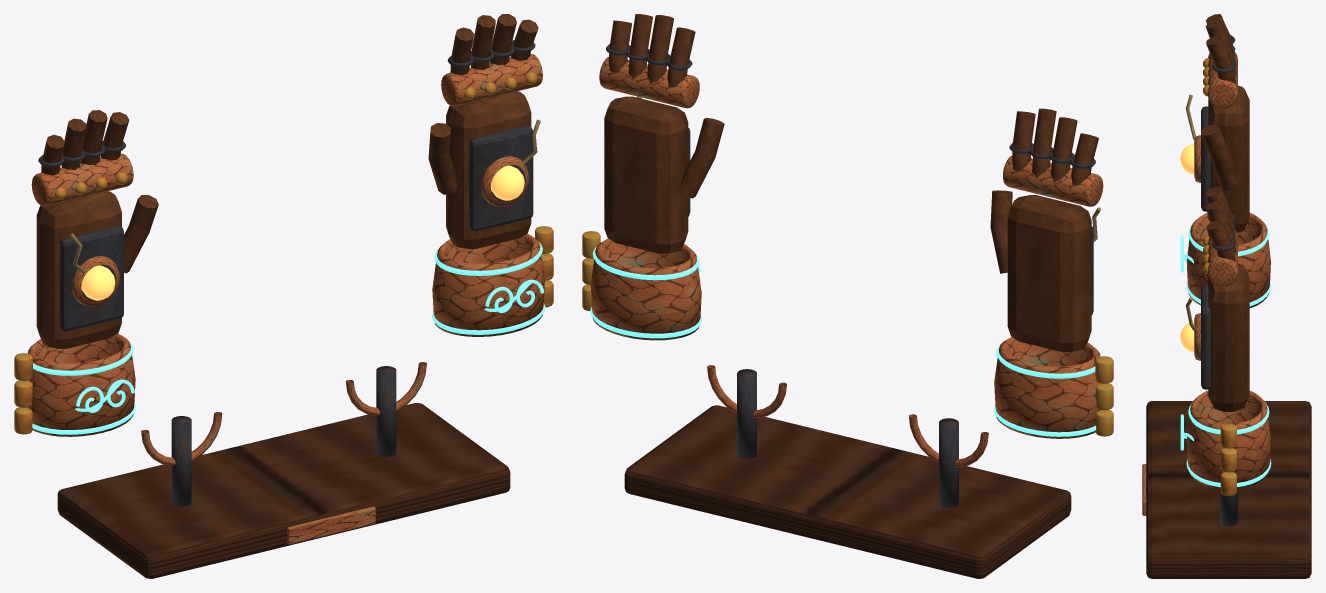
The model's file is gloves.glb.
3 views of the same model, side by side, from view 1: azimuth 30°, elevation 25°; view 2: azimuth 150°, elevation 25°; view 3: azimuth 270°, elevation 25° (orthographic). The views are drawn at different scales.
Visible parts, largest first — view 1: stand_base, gauntlet_R_cuff, gauntlet_L_cuff, gauntlet_L_hand_back, gauntlet_R_hand_back, gauntlet_R_hand_plate, gauntlet_L_hand_plate, gauntlet_R_fingers, gauntlet_L_fingers, gauntlet_L_knuckle_bar, gauntlet_R_knuckle_bar, gauntlet_L (+14 smaller); view 2: stand_base, gauntlet_L_hand_back, gauntlet_R_hand_back, gauntlet_R_cuff, gauntlet_L_cuff, gauntlet_R_fingers, gauntlet_L_fingers, gauntlet_L, gauntlet_L_knuckle_bar, gauntlet_R_knuckle_bar, gauntlet_R, gauntlet_R_thumb (+5 smaller); view 3: stand_base, gauntlet_R_hand_back, gauntlet_R_cuff, gauntlet_L_hand_back, gauntlet_L_cuff, gauntlet_R, gauntlet_R_fingers, gauntlet_L_fingers, gauntlet_L_thumb, gauntlet_L_knuckle_bar, gauntlet_R_hand_plate, gauntlet_R_knuckle_bar (+8 smaller).
Part boxes in pixels (x1=…): stand_base: x1=57, y1=403, x2=510, y2=578; gauntlet_R_cuff: x1=432, y1=233, x2=544, y2=336; gauntlet_L_cuff: x1=28, y1=333, x2=135, y2=436; gauntlet_L_hand_back: x1=36, y1=191, x2=121, y2=348; gauntlet_R_hand_back: x1=446, y1=91, x2=531, y2=249; gauntlet_R_hand_plate: x1=469, y1=126, x2=533, y2=231; gauntlet_L_hand_plate: x1=60, y1=226, x2=123, y2=331; gauntlet_R_fingers: x1=450, y1=14, x2=538, y2=75; gauntlet_L_fingers: x1=41, y1=110, x2=129, y2=175; gauntlet_L_knuckle_bar: x1=31, y1=153, x2=133, y2=206; gauntlet_R_knuckle_bar: x1=441, y1=53, x2=542, y2=106; gauntlet_L: x1=14, y1=342, x2=135, y2=434; stand_base: x1=624, y1=405, x2=1071, y2=578; gauntlet_L_hand_back: x1=1007, y1=195, x2=1091, y2=352; gauntlet_R_hand_back: x1=604, y1=96, x2=688, y2=253; gauntlet_R_cuff: x1=590, y1=238, x2=701, y2=340; gauntlet_L_cuff: x1=994, y1=337, x2=1100, y2=438; gauntlet_R_fingers: x1=608, y1=14, x2=695, y2=87; gauntlet_L_fingers: x1=1012, y1=108, x2=1098, y2=185; gauntlet_L: x1=994, y1=345, x2=1113, y2=436; gauntlet_L_knuckle_bar: x1=1003, y1=156, x2=1103, y2=206; gauntlet_R_knuckle_bar: x1=599, y1=57, x2=699, y2=108; gauntlet_R: x1=582, y1=231, x2=701, y2=338; gauntlet_R_thumb: x1=678, y1=117, x2=724, y2=198; stand_base: x1=1146, y1=401, x2=1311, y2=578; gauntlet_R_hand_back: x1=1208, y1=263, x2=1249, y2=411; gauntlet_R_cuff: x1=1186, y1=390, x2=1270, y2=488; gauntlet_L_hand_back: x1=1208, y1=85, x2=1249, y2=232; gauntlet_L_cuff: x1=1186, y1=213, x2=1270, y2=308; gauntlet_R: x1=1186, y1=401, x2=1271, y2=496; gauntlet_R_fingers: x1=1205, y1=186, x2=1236, y2=261; gauntlet_L_fingers: x1=1205, y1=14, x2=1236, y2=83; gauntlet_L_thumb: x1=1201, y1=124, x2=1237, y2=190; gauntlet_L_knuckle_bar: x1=1207, y1=51, x2=1237, y2=108; gauntlet_R_hand_plate: x1=1201, y1=284, x2=1210, y2=389; gauntlet_R_knuckle_bar: x1=1207, y1=229, x2=1237, y2=286.
Size of the model in its own units: 0.734 by 0.5811 by 0.225.
Materials: 8 (6 with a texture image).
